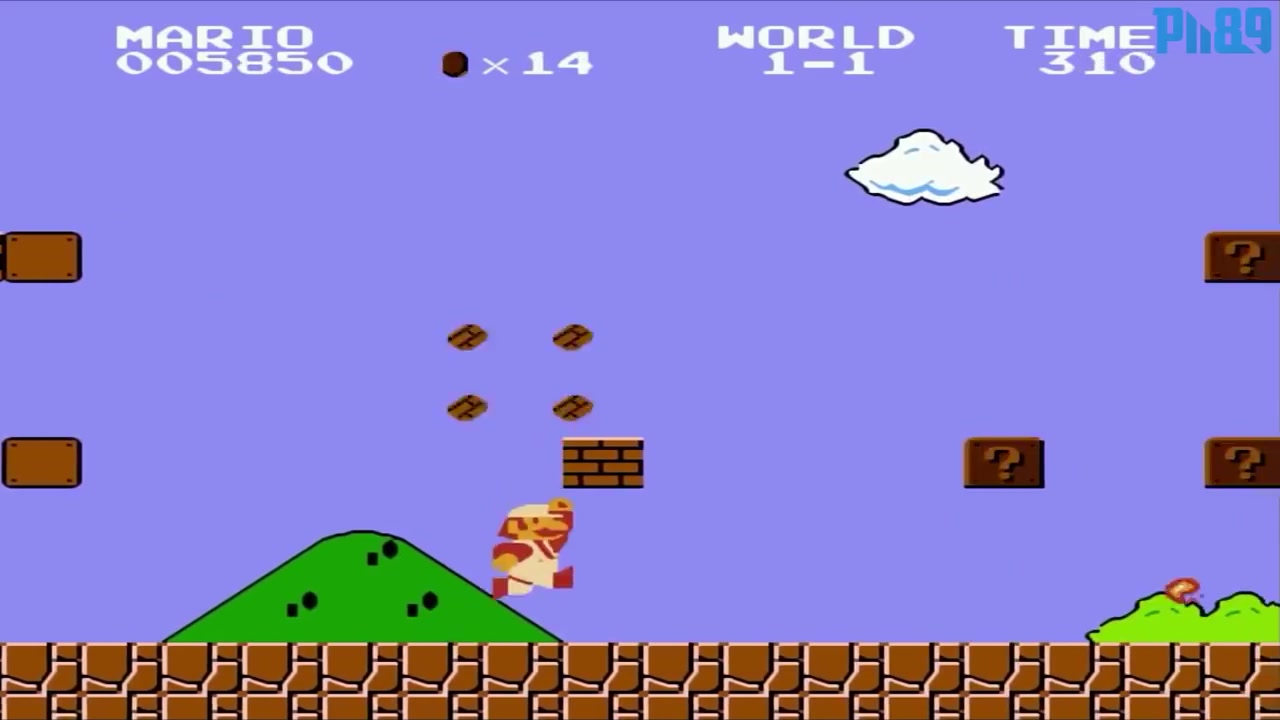mario: (487, 493, 589, 606)
